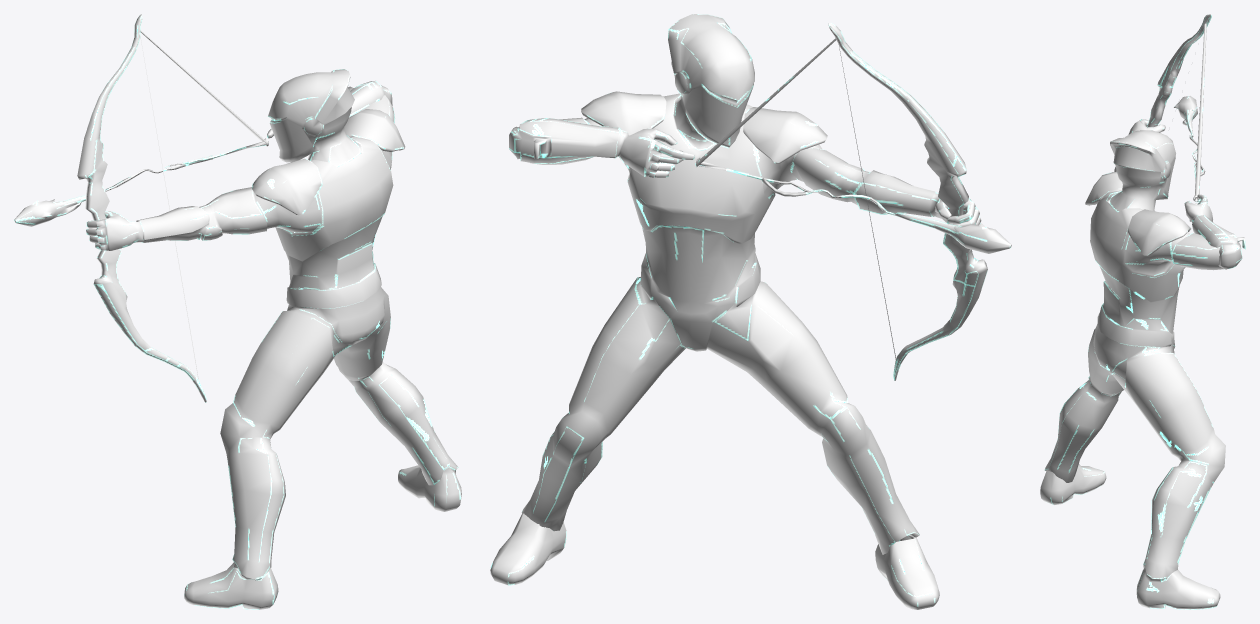
Rendered from archer_v3.glb.
3 renders of one model, left to right at view 1: azimuth 30°, elevation 25°; view 2: azimuth 150°, elevation 25°; view 3: azimuth 270°, elevation 25°, orthographic. The views are drawn at different scales.
Visible parts, largest first — view 1: archer_v3; view 2: archer_v3; view 3: archer_v3.
Part boxes in pixels (box(x1,y1,x2,y2)): archer_v3: box(14, 14, 461, 609); archer_v3: box(490, 14, 1011, 609); archer_v3: box(1040, 14, 1245, 609).
Bounding box in the file's own units: 2.17 × 2.6 × 1.02.
1 material, 1 textured.
